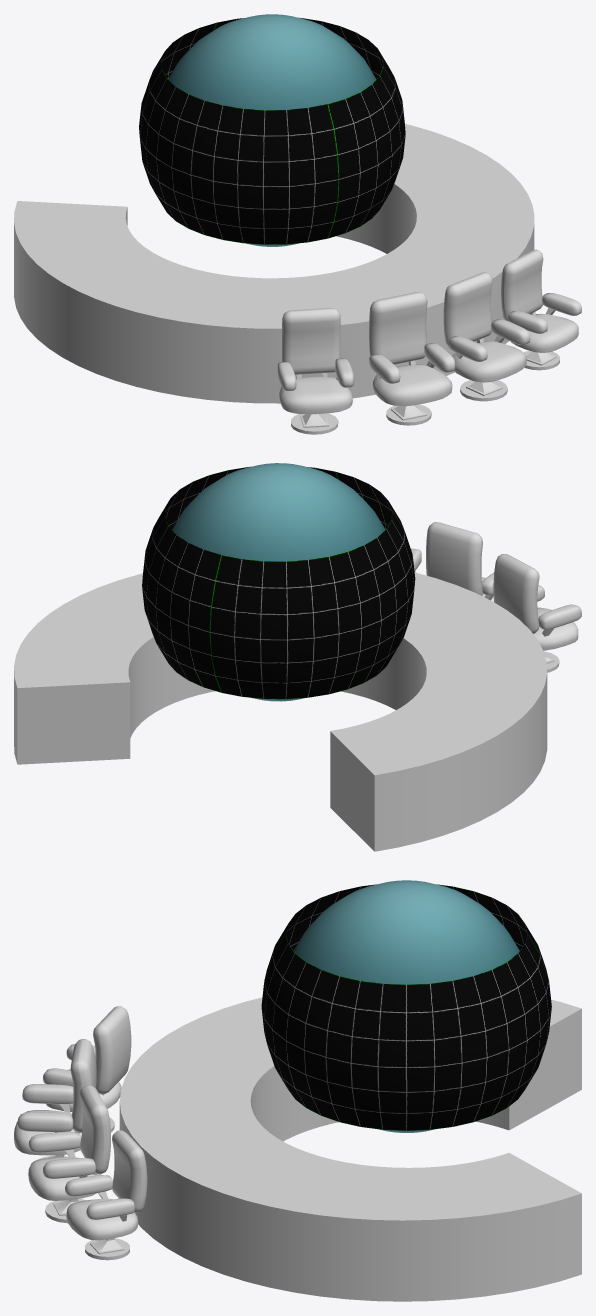
Rendered from Background.FBX.
3 views of the same model, one above another, from view 1: azimuth 30°, elevation 25°; view 2: azimuth 150°, elevation 25°; view 3: azimuth 270°, elevation 25° (orthographic). The views are drawn at different scales.
Visible parts, largest first — view 1: Tube001, Object001, Sphere001, Box211, Box212, Box213, Box214, Cylinder003, Cylinder004; view 2: Tube001, Object001, Sphere001, Box212, Box211; view 3: Tube001, Object001, Sphere001, Box214, Box213, Box211, Box212.
Boxes of the visible parts, x1,y1,x2,y2 form: Tube001: [14, 124, 534, 403]; Object001: [139, 17, 405, 244]; Sphere001: [168, 14, 375, 246]; Box211: [369, 291, 455, 420]; Box212: [277, 308, 354, 427]; Box213: [443, 272, 530, 395]; Box214: [501, 249, 581, 365]; Cylinder003: [291, 413, 338, 434]; Cylinder004: [460, 380, 507, 401]; Tube001: [14, 572, 547, 851]; Object001: [142, 466, 415, 699]; Sphere001: [172, 463, 385, 701]; Box212: [493, 554, 581, 663]; Box211: [426, 522, 493, 601]; Tube001: [119, 997, 581, 1301]; Object001: [261, 884, 551, 1130]; Sphere001: [293, 880, 519, 1132]; Box214: [65, 1130, 147, 1254]; Box213: [28, 1085, 110, 1215]; Box211: [14, 1039, 96, 1158]; Box212: [43, 1006, 131, 1111].
Size of the model in its own units: 179 by 101 by 180.
